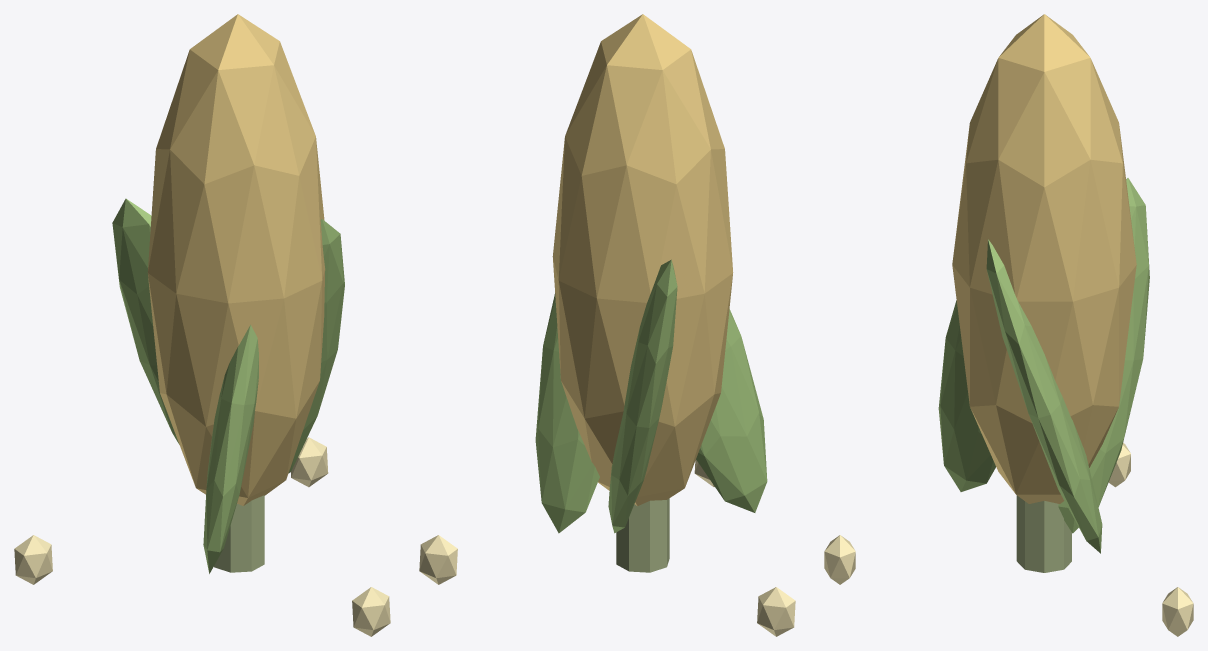
The model's file is milho.glb.
The picture shows the model from 3 angles, left to right: view 1: azimuth 30°, elevation 25°; view 2: azimuth 150°, elevation 25°; view 3: azimuth 270°, elevation 25°; orthographic projection.
Parts seen in each view (by area): view 1: agro_milho_00; view 2: agro_milho_00; view 3: agro_milho_00.
Boxes of the visible parts, x1,y1,x2,y2 form: agro_milho_00: (14,14,390,636); agro_milho_00: (419,14,795,636); agro_milho_00: (824,14,1193,636).
Size of the model in its own units: 0.857 by 1.33 by 0.8005.
